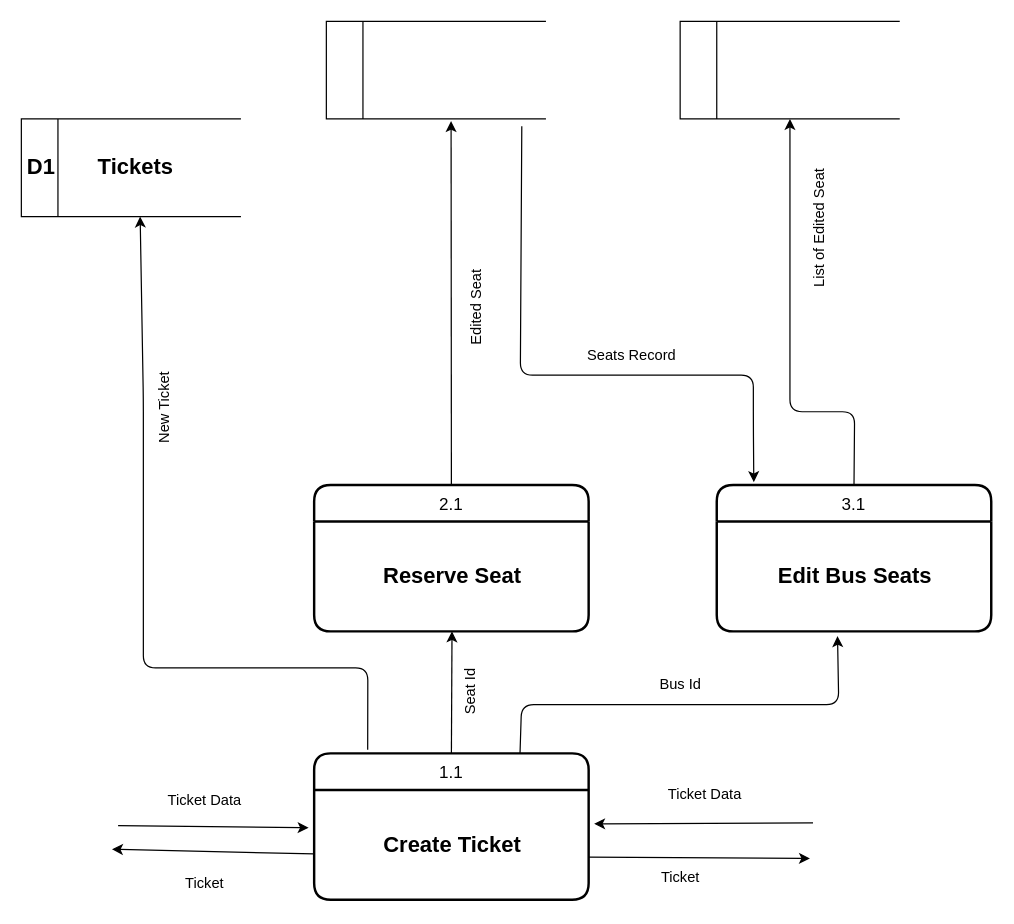
The diagram is 1014 pixels wide and 924 high, and some of its shapes have lost their labels. The shapes that lost their labels are listed below. From the top down, each one's centre as x and y in pixels, then its label:
At point (435, 69): "D5 Seats".
At point (789, 69): "D3 Buses".
